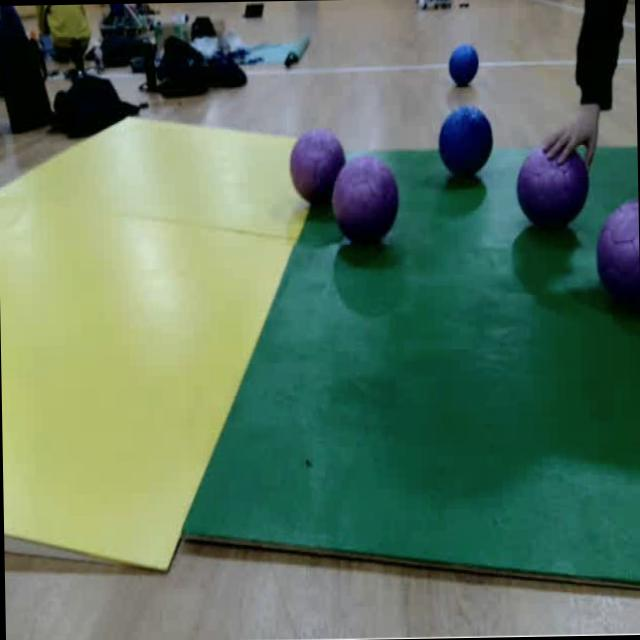blue_ball: (436, 105, 496, 186), (448, 43, 483, 90)
purple_ball: (328, 154, 398, 250), (520, 144, 588, 238), (594, 200, 640, 326), (288, 127, 348, 206)
